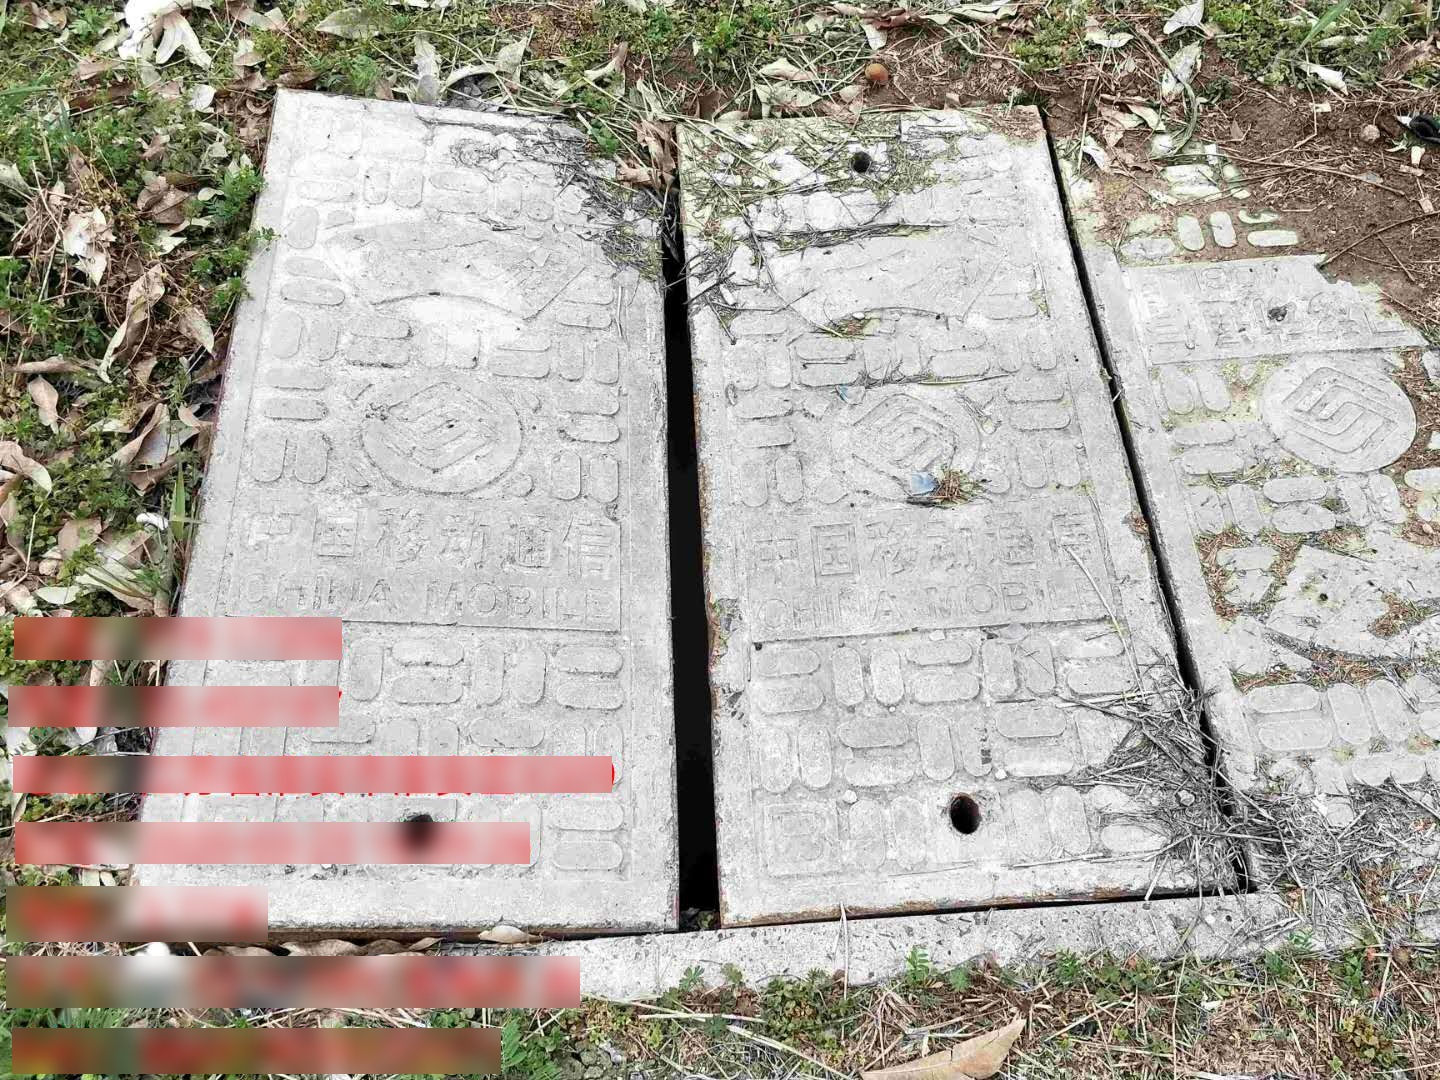well: (6, 88, 1342, 992)
